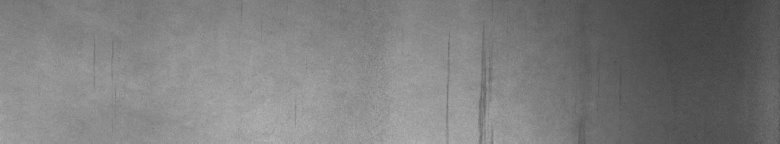ka: (446, 52, 492, 136)
